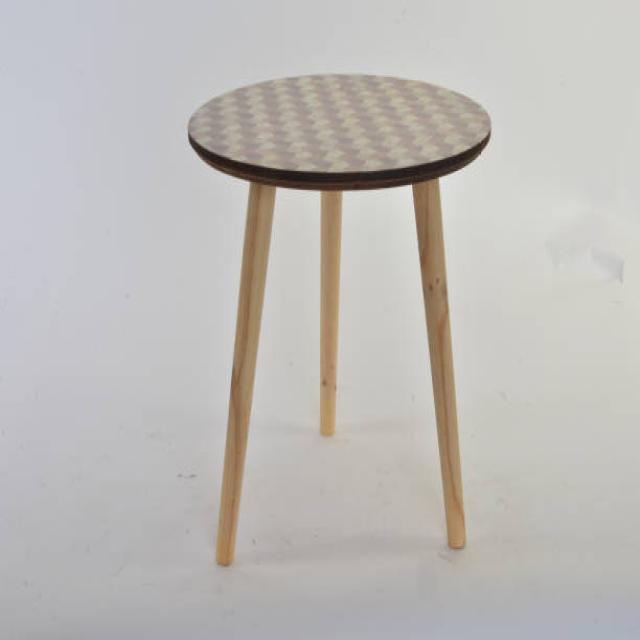table: (186, 70, 492, 566)
